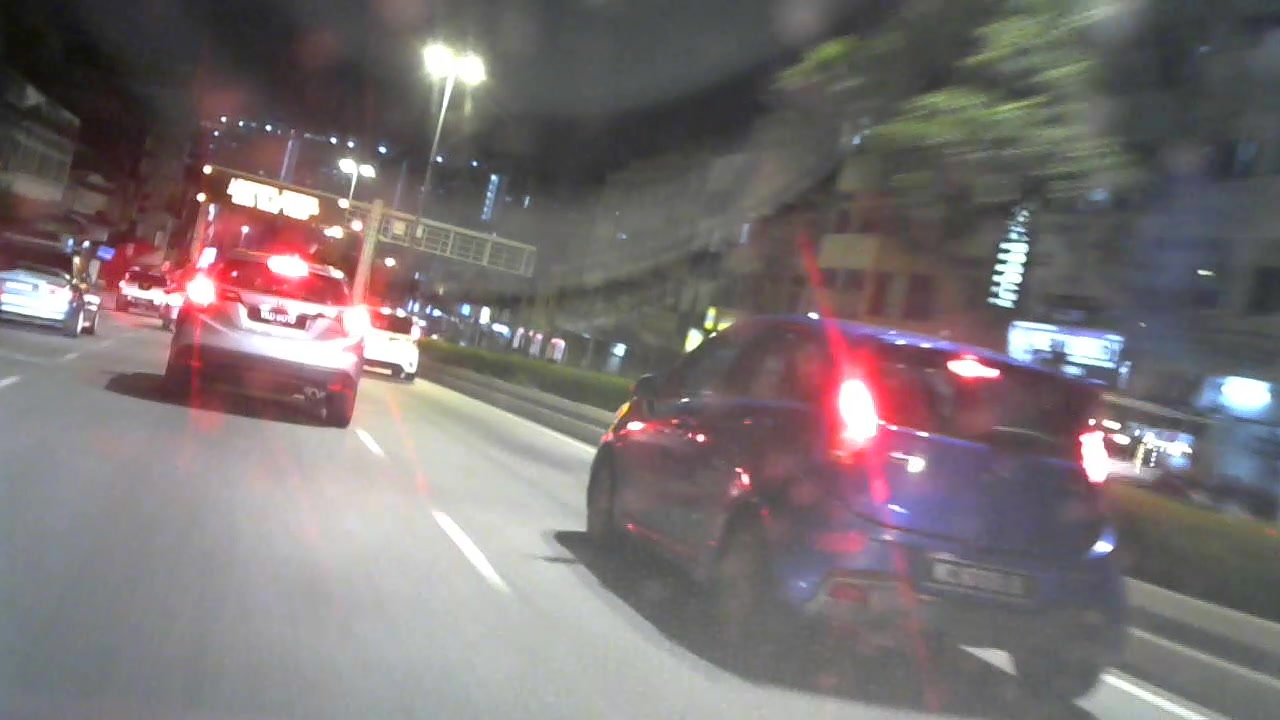Car: (552, 290, 1128, 709), (153, 244, 373, 434), (1, 266, 110, 346), (348, 297, 427, 387), (109, 265, 164, 315)
